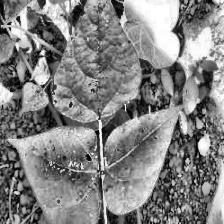ALS: (46, 0, 138, 119), (100, 102, 190, 214), (4, 136, 106, 224), (16, 82, 56, 120)
